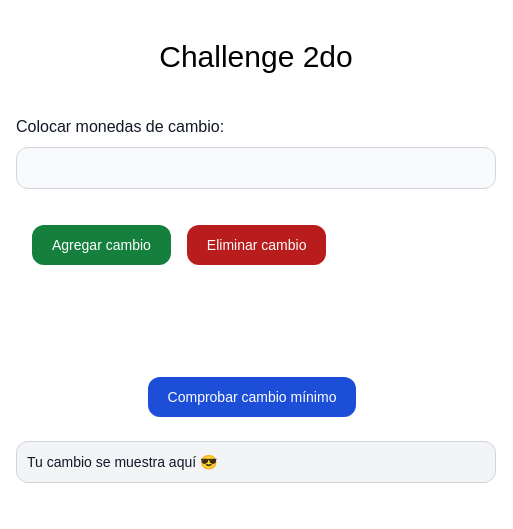
Test: SecondChallengeScreen › should allow adding coins and display the list
// Simula agregar una moneda
Type "5" into the field labelled "Colocar monedas de cambio:" at (256, 168), box [16,147,496,189]
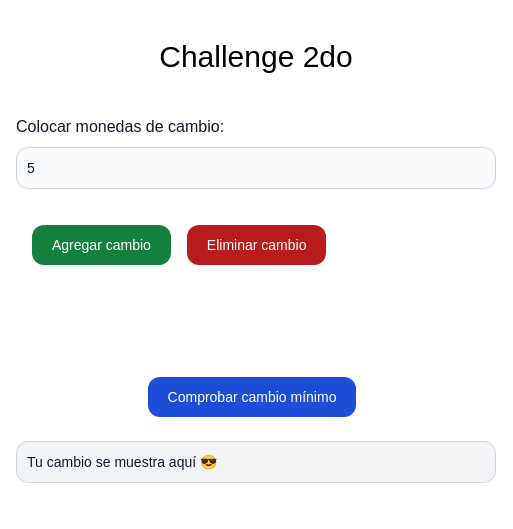
Click the button "Agregar cambio" at (101, 245), box [32,225,171,265]
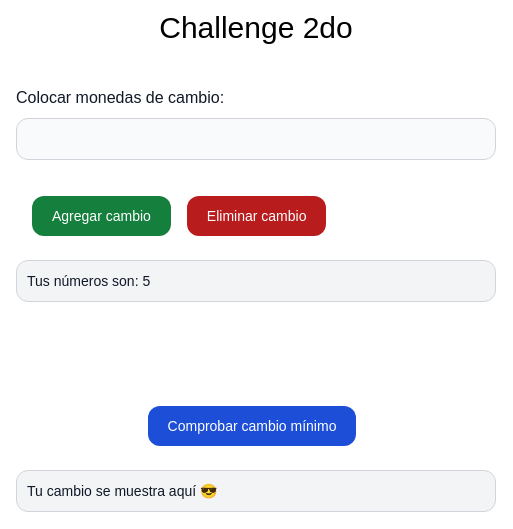
Check: the field showing "Tus números son: 5" below "Colocar monedas de cambio:" is shown, box [16,260,496,302]
